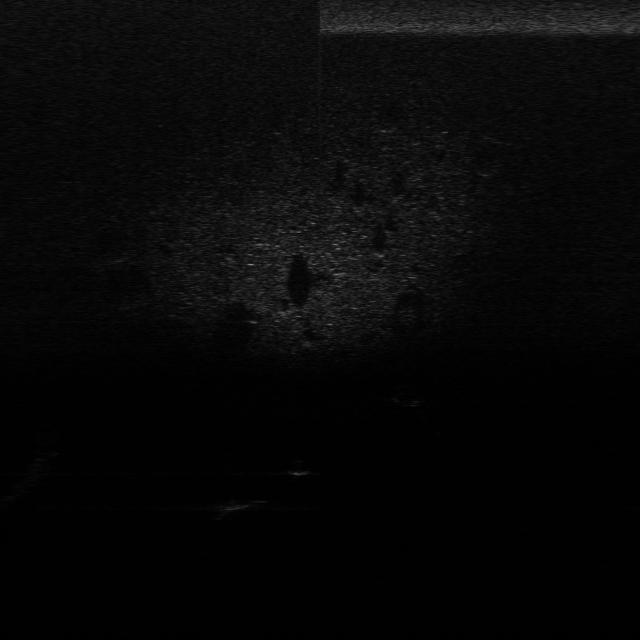ball: (284, 455, 312, 476)
square cage: (204, 494, 266, 514)
tyre: (390, 386, 424, 409)
